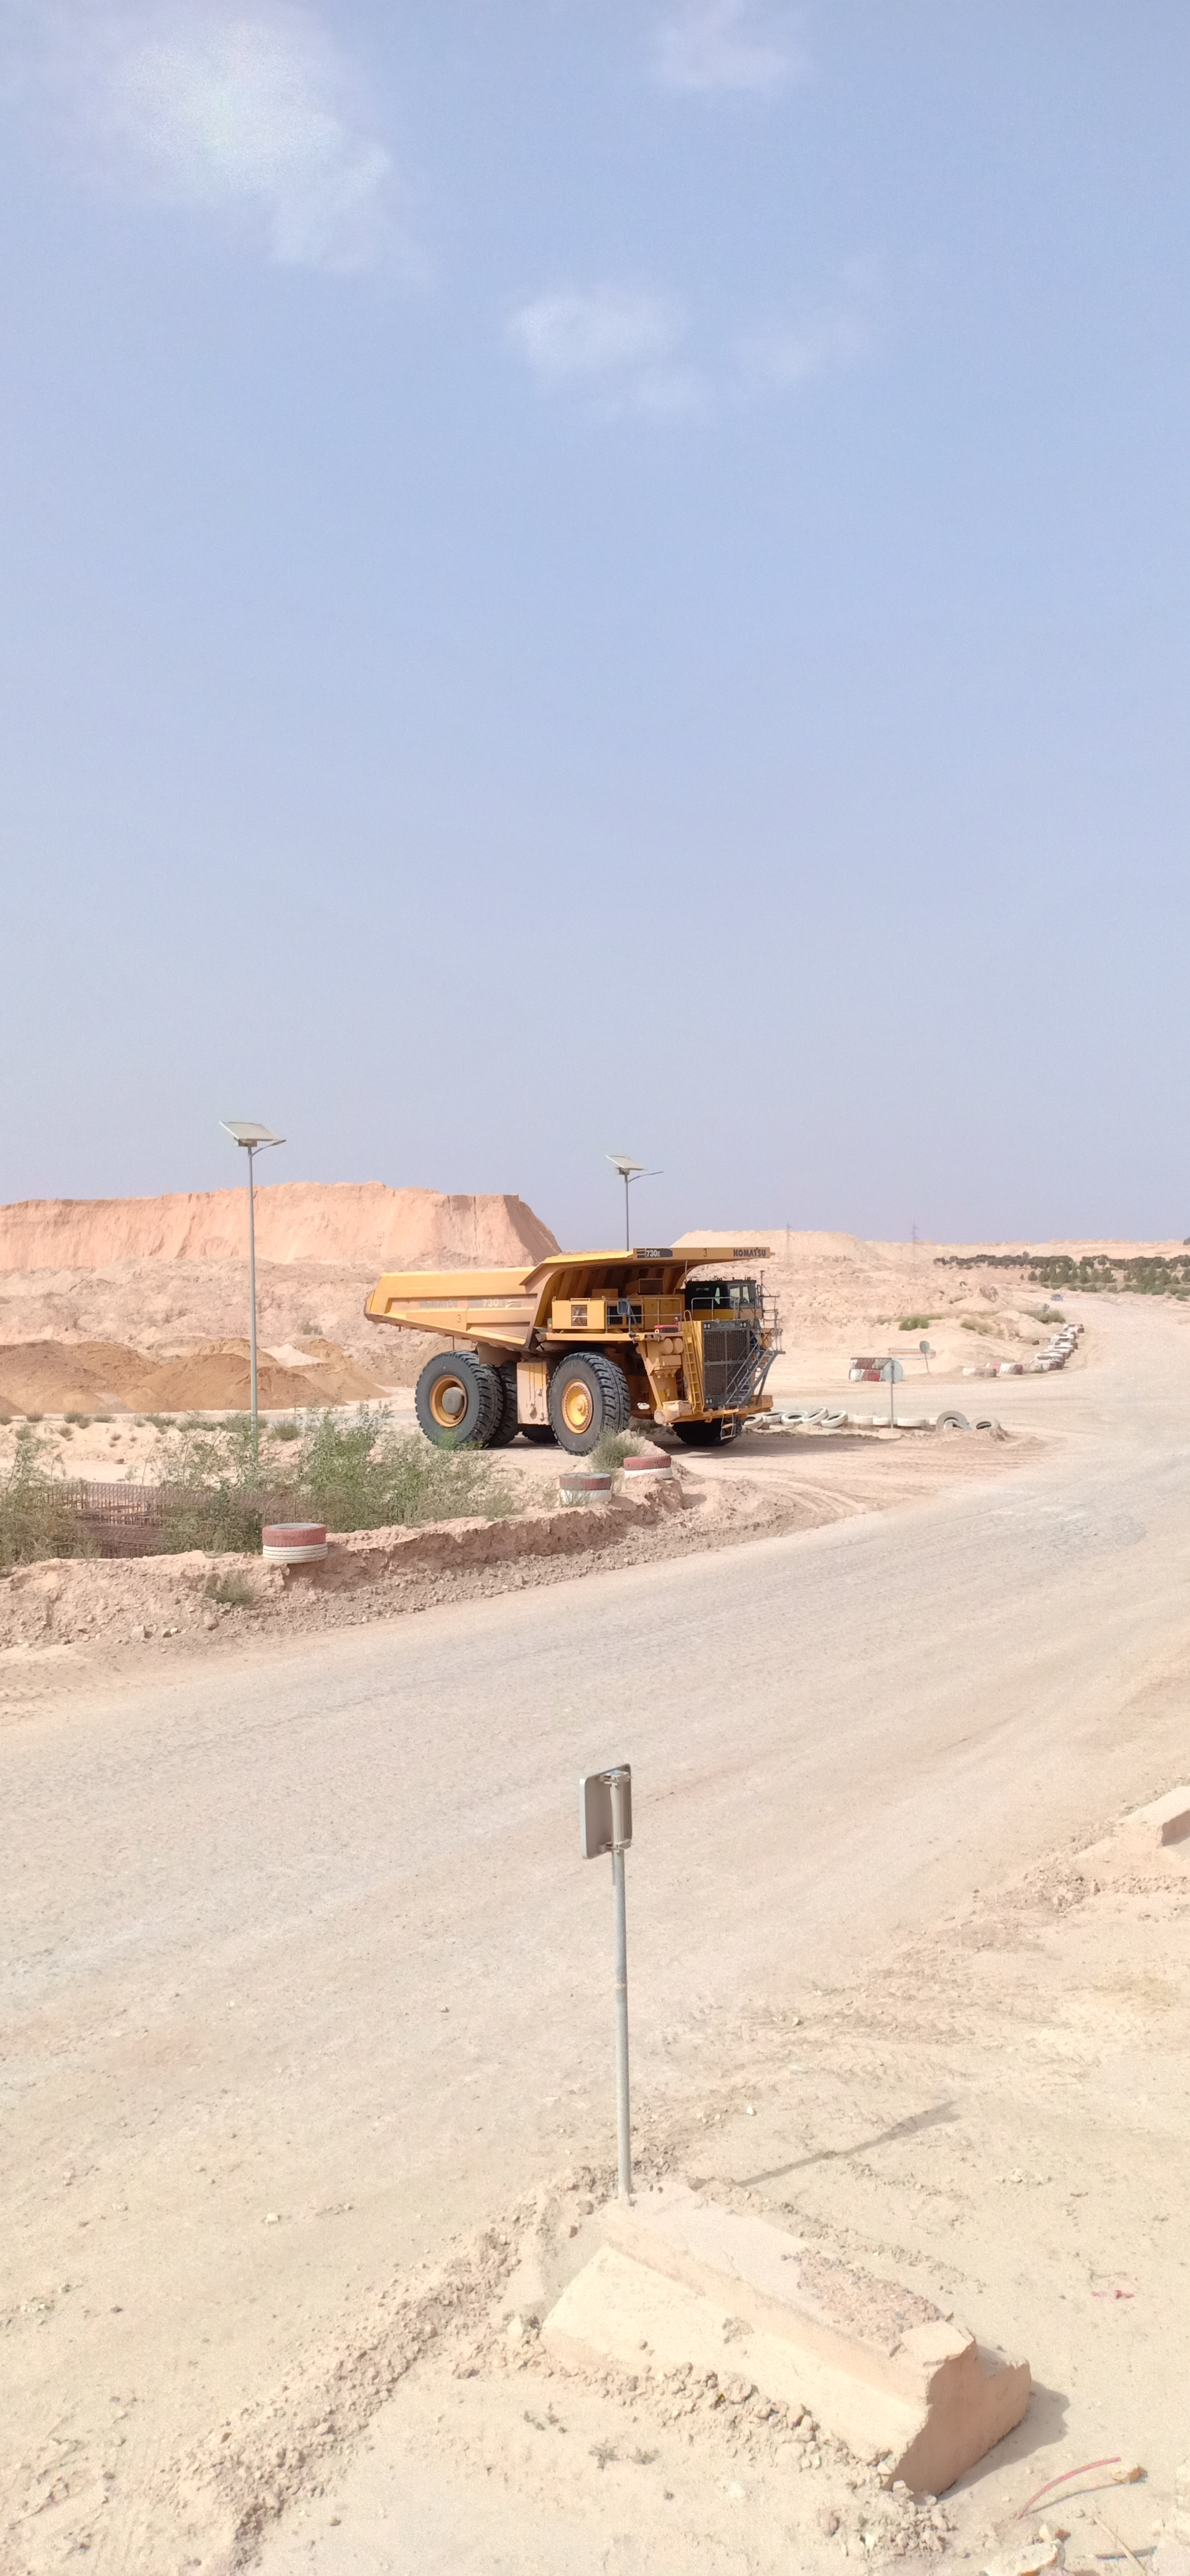camion: (352, 1219, 797, 1475)
